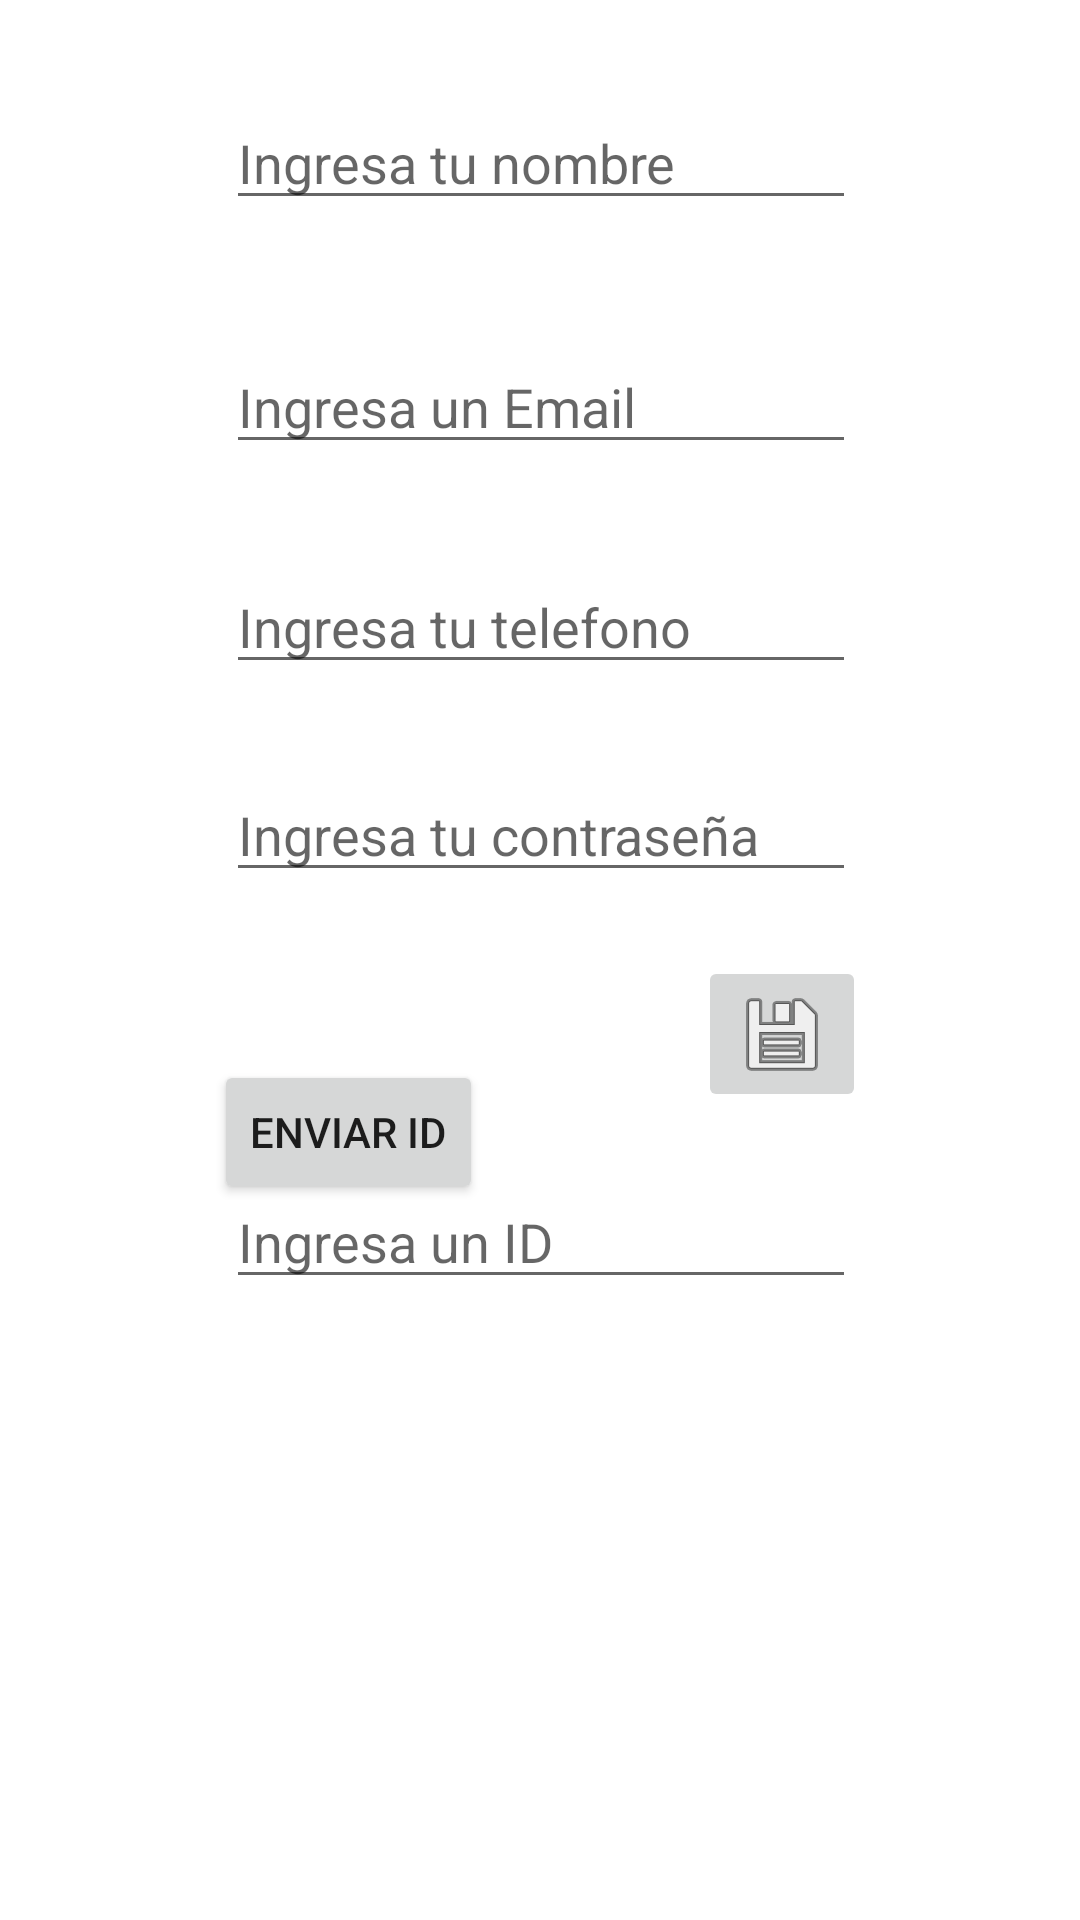

Where to tap for icons on this 1080*1920 app screen, as (x=x, y=y):
save: (x=782, y=1034)
